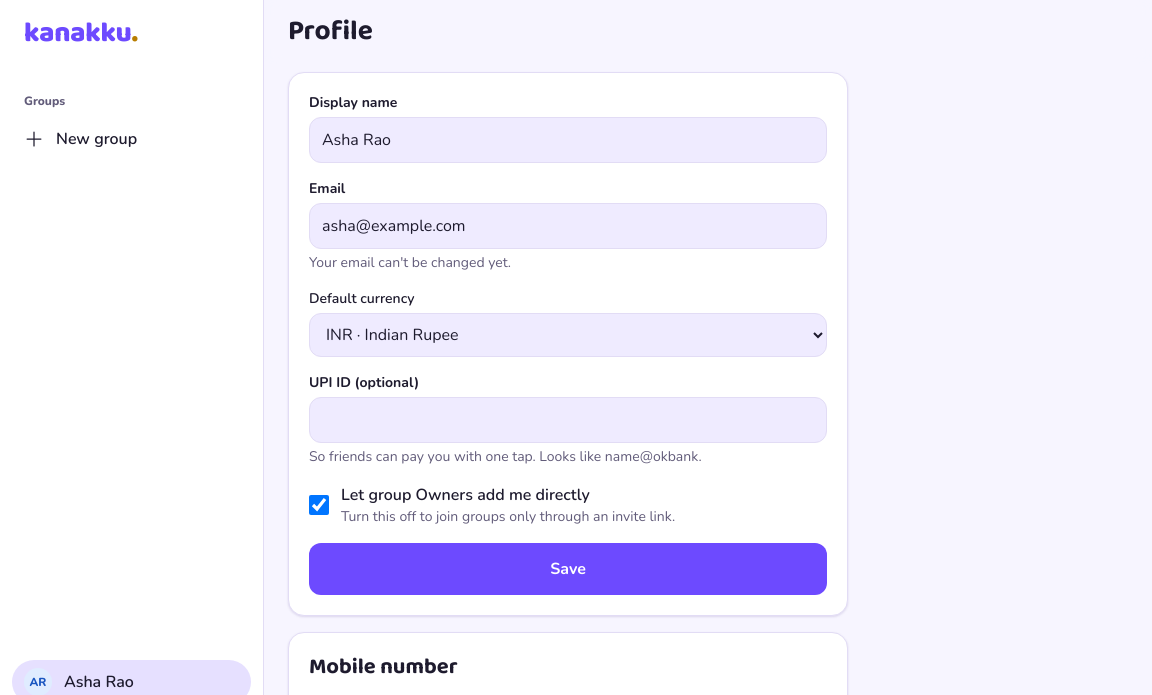
ProfilePage › allows the UPI ID to be empty and leaves it out of the request
Click the button "Save": [568, 569] box [309,543,827,595]
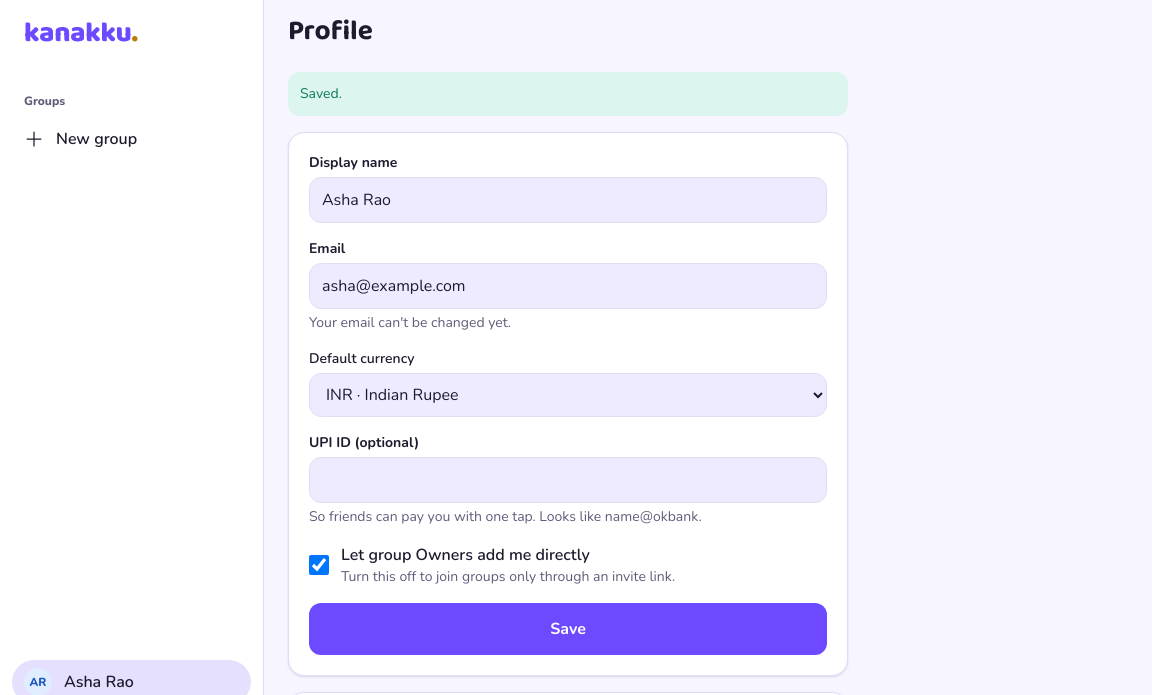
Expected: the message "Saved." is shown, [288,72,848,116]
